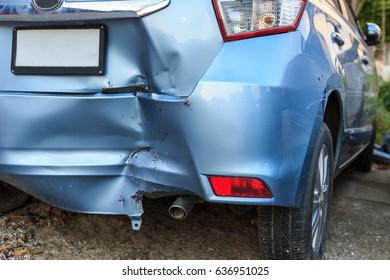rear-bumper-dent: (0, 83, 329, 216)
